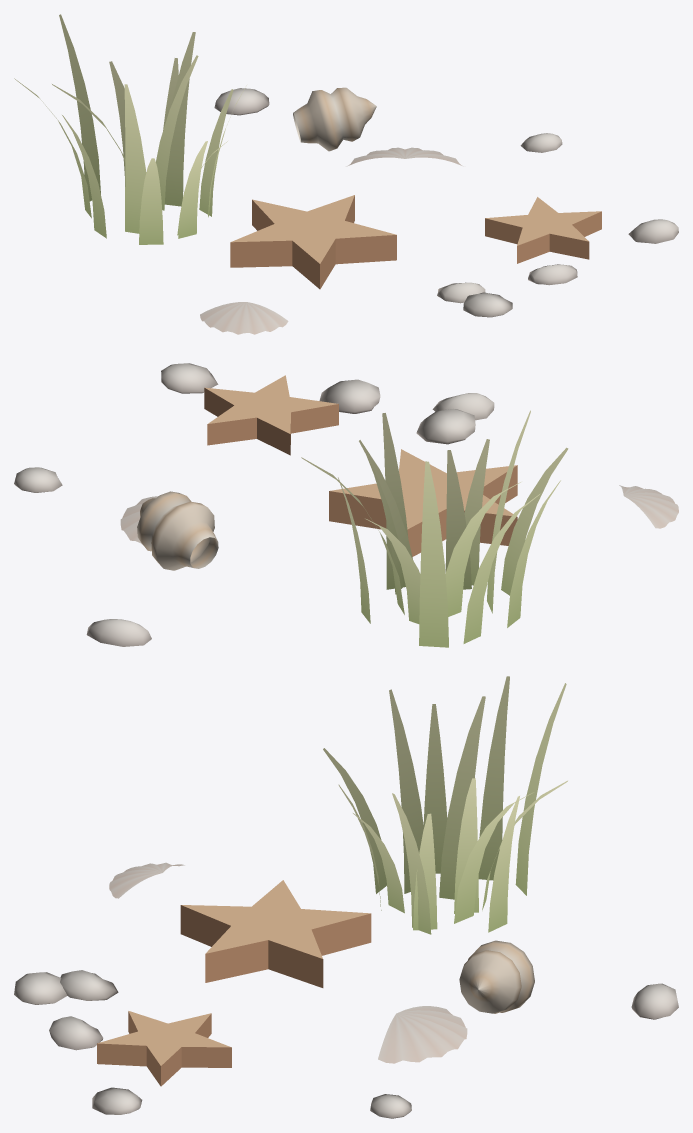
Rendered from beach_shells.glb.
3 renders of one model, top to bottom at view 1: azimuth 30°, elevation 25°; view 2: azimuth 150°, elevation 25°; view 3: azimuth 270°, elevation 25°, orthographic. The views are drawn at different scales.
Parts seen in each view (by area): view 1: body; view 2: body; view 3: body.
Part boxes in pixels (x1,y1,x2,y2): body: [14, 14, 678, 334]; body: [14, 363, 678, 647]; body: [14, 676, 678, 1118].
Size of the model in its own units: 0.5507 by 0.1854 by 0.5603.
